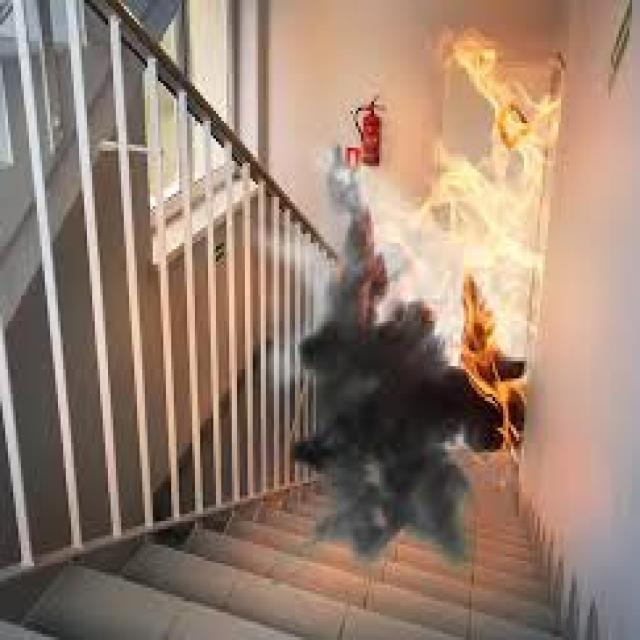Fire: (454, 14, 560, 474)
Smoke: (296, 143, 457, 572)
